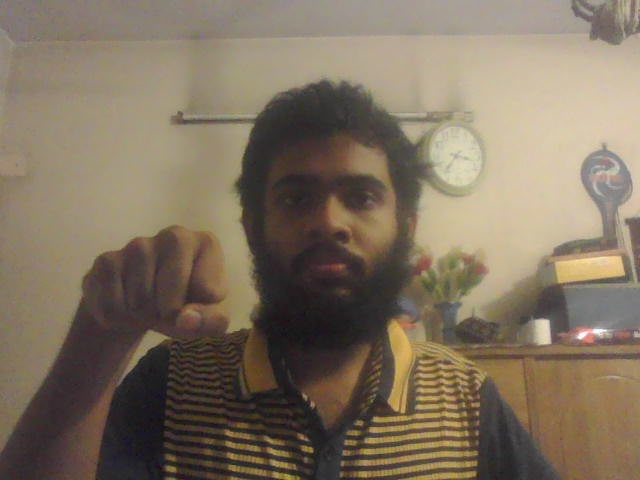Yes: (71, 225, 230, 346)
